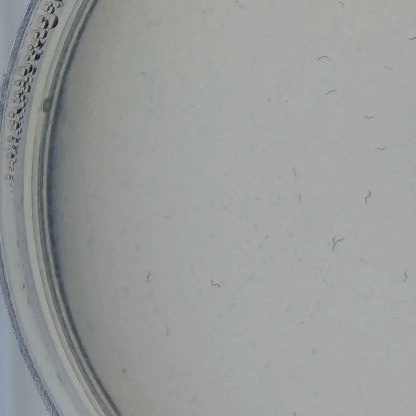worm: (285, 160, 306, 189), (313, 50, 332, 74), (359, 185, 379, 206), (329, 231, 349, 252), (245, 191, 265, 212), (203, 273, 230, 288), (317, 276, 332, 299), (405, 22, 416, 53), (289, 192, 305, 213), (142, 266, 157, 288), (319, 85, 337, 103), (370, 140, 392, 153), (160, 322, 174, 340), (398, 267, 410, 287), (380, 62, 396, 77), (333, 0, 349, 14), (359, 110, 380, 120)
